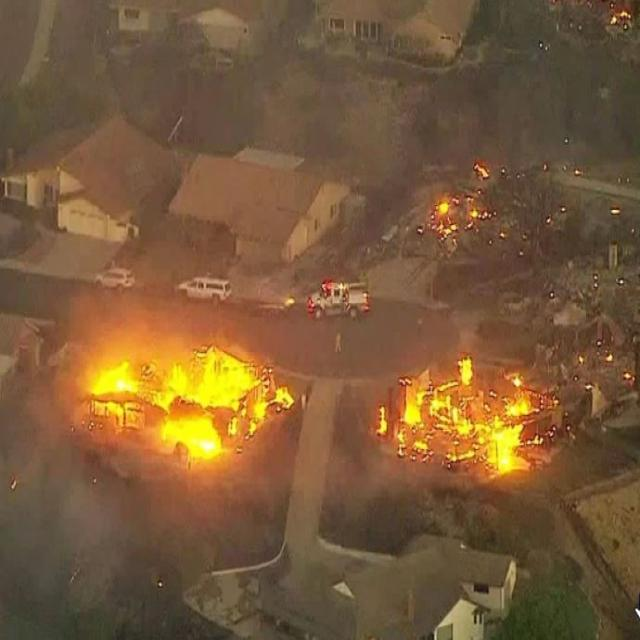Fire: (378, 360, 539, 479), (96, 365, 300, 454)
